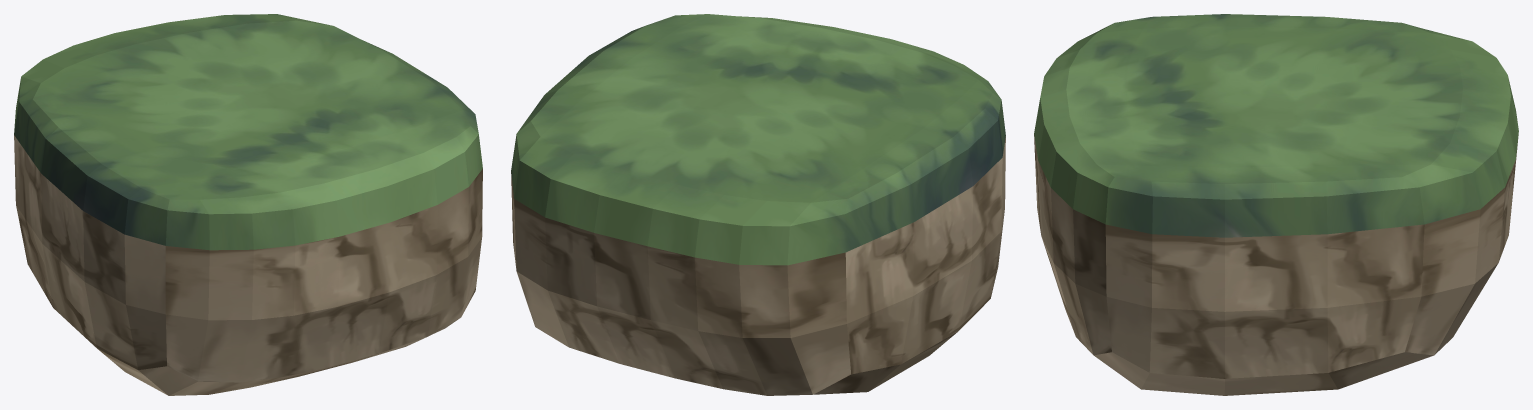
File: floor3.fbx
3 renders of one model, left to right at view 1: azimuth 30°, elevation 25°; view 2: azimuth 150°, elevation 25°; view 3: azimuth 270°, elevation 25°, orthographic. The views are drawn at different scales.
Parts seen in each view (by area): view 1: 地板; view 2: 地板; view 3: 地板.
Part boxes in pixels (x1,y1,x2,y2): 地板: [14, 14, 482, 395]; 地板: [511, 14, 1005, 395]; 地板: [1034, 14, 1518, 395].
Bounding box in the file's own units: 2601 × 1481 × 2818.
1 material, 1 textured.
